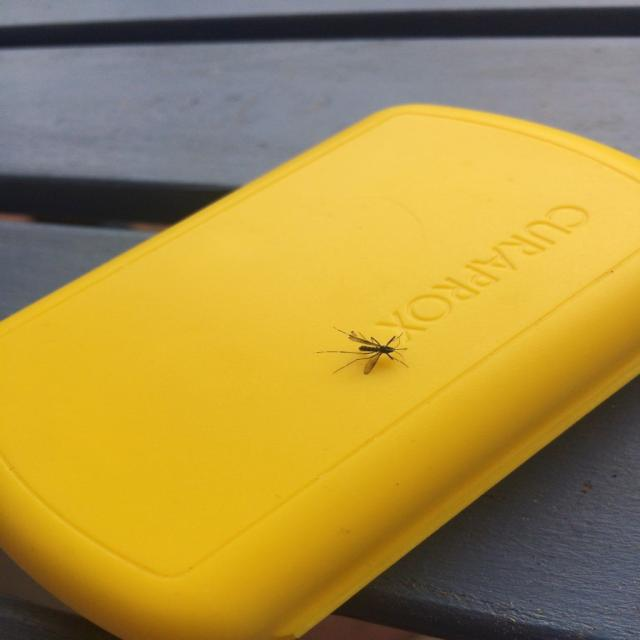albopictus: (318, 321, 412, 375)
